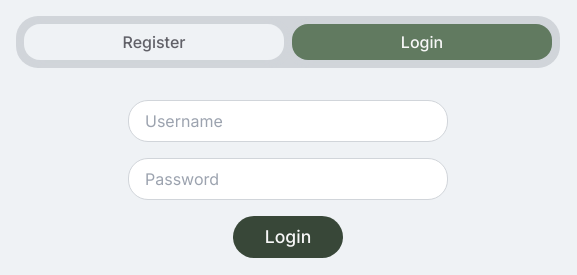
Test: Login Page -- /Login › Unauthenticated User › Login/Register Tabs › properly toggles to register and back to login upon clicking tabs
Click the button with test id "register-tab": x=154, y=42 x1=24 y1=24 x2=284 y2=60
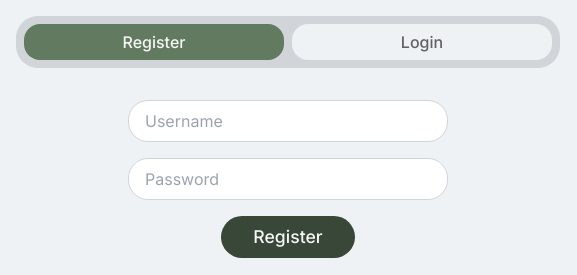
Expected: the button with test id "login-tab" is enabled
Click the button with test id "login-tab": x=422, y=42 x1=292 y1=24 x2=552 y2=60
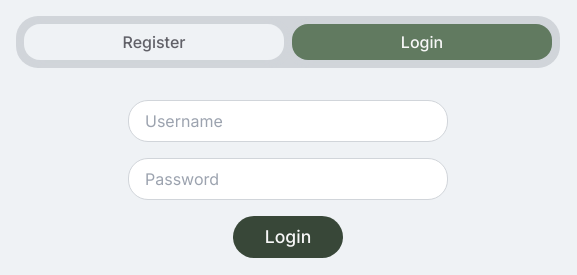
Expected: the button with test id "login-tab" is disabled, x1=292 y1=24 x2=552 y2=60
Expected: the button with test id "register-tab" is enabled, x1=24 y1=24 x2=284 y2=60
Expected: the button with test id "submit-btn" reads "Login", x1=233 y1=216 x2=343 y2=258
